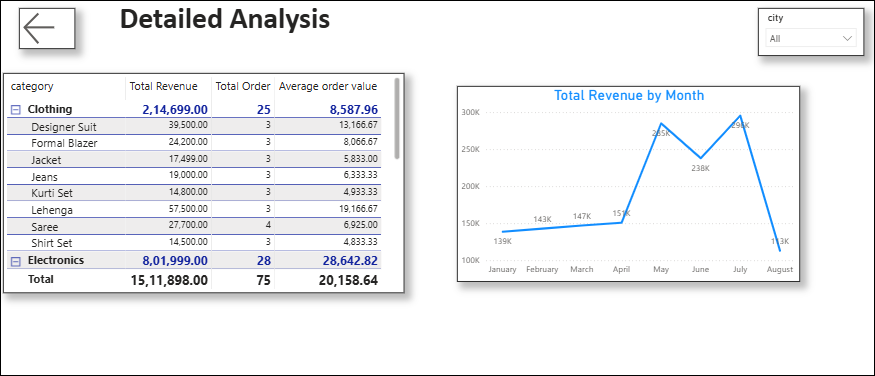

The page's visual inventory and layout, read from the dashboard file:
{"tool":"powerbi","page":{"name":"Page 2","canvas":[1280,720],"ordinal":1},"visuals":[{"type":"textbox","box":[173,0,398.1,75.6],"z":0},{"type":"pivotTable","fields":{"Rows":["public retail_sales.category","public retail_sales.sub_category"],"Values":["public retail_sales.Total Revenue","public retail_sales.Total Order","public retail_sales.Average order value"]},"box":[10.1,110.9,577.8,317.5],"z":1000},{"type":"lineChart","fields":{"Category":["DimDate.Date.Variation.Date Hierarchy.Month"],"Y":["public retail_sales.Total Revenue"]},"box":[663.5,129.3,493.9,282.2],"z":2000},{"type":"actionButton","box":[33.6,16.8,80.6,58.8],"z":3000},{"type":"slicer","fields":{"Values":["public retail_sales.city"]},"box":[1096.9,16.8,152.9,68.9],"z":4000}]}

Visuals, with their boxes on the page's 1280x720 design canvas (x1, y1, x2, y2). These are canvas units, not pixel positions in the 875x376 screenshot, which may show the page scaled, cropped or inside an application window:
textbox: region(173, 0, 571, 76)
pivotTable - public retail_sales.category x public retail_sales.sub_category: region(10, 111, 588, 428)
lineChart - DimDate.Date.Variation.Date Hierarchy.Month x public retail_sales.Total Revenue: region(664, 129, 1157, 412)
actionButton: region(34, 17, 114, 76)
slicer - public retail_sales.city: region(1097, 17, 1250, 86)
